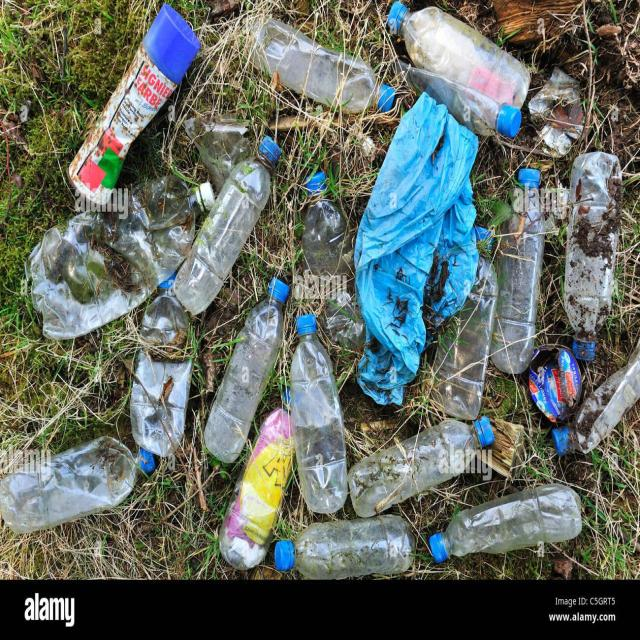bottle: (23, 182, 218, 344), (168, 124, 286, 318), (214, 372, 320, 570), (196, 272, 295, 475), (239, 5, 398, 125), (348, 401, 496, 520), (392, 0, 529, 121), (0, 427, 155, 529), (286, 293, 352, 523), (556, 132, 620, 369), (418, 480, 592, 565), (290, 165, 361, 361), (489, 147, 550, 369), (126, 288, 201, 461), (550, 334, 639, 455), (449, 224, 504, 417), (392, 64, 524, 143), (275, 516, 415, 583), (455, 64, 461, 65)
